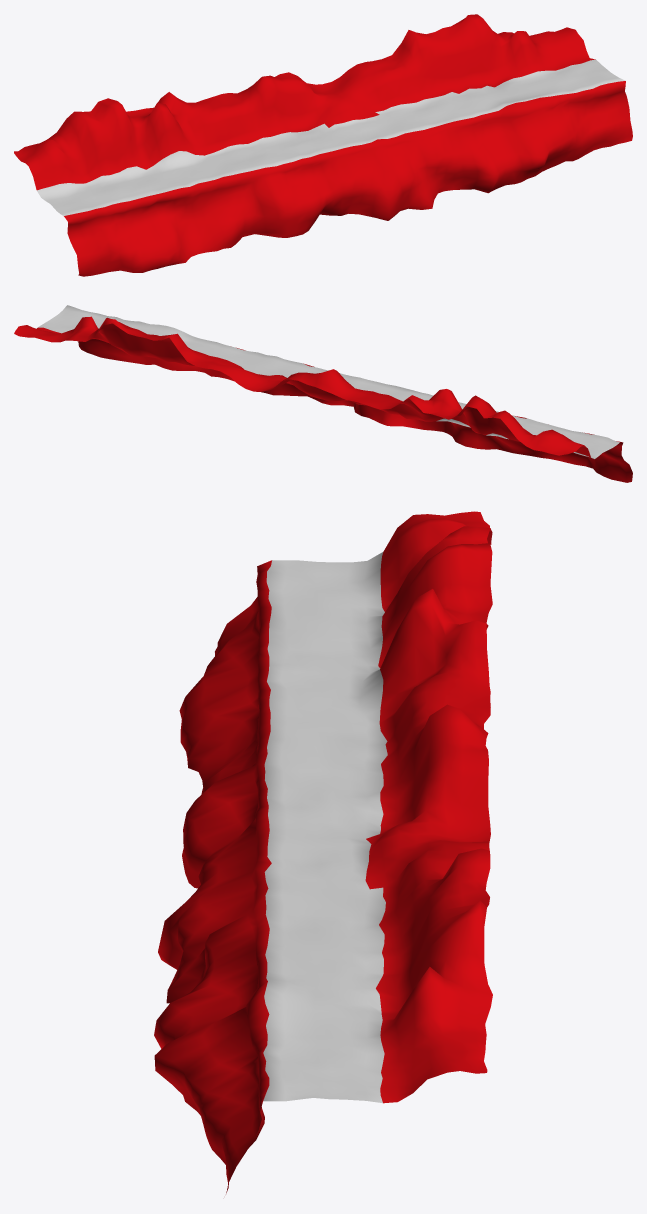
File: KnightBossLevel5.fbx
3 renders of one model, top to bottom at view 1: azimuth 30°, elevation 25°; view 2: azimuth 150°, elevation 25°; view 3: azimuth 270°, elevation 25°, orthographic. The views are drawn at different scales.
Visible parts, largest first — view 1: Plane.004; view 2: Plane.004; view 3: Plane.004.
Boxes of the visible parts, x1,y1,x2,y2 form: Plane.004: (14,14,632,276); Plane.004: (14,305,632,482); Plane.004: (154,511,492,1193).
Bounding box in the file's own units: 116490 × 22433 × 30788.
